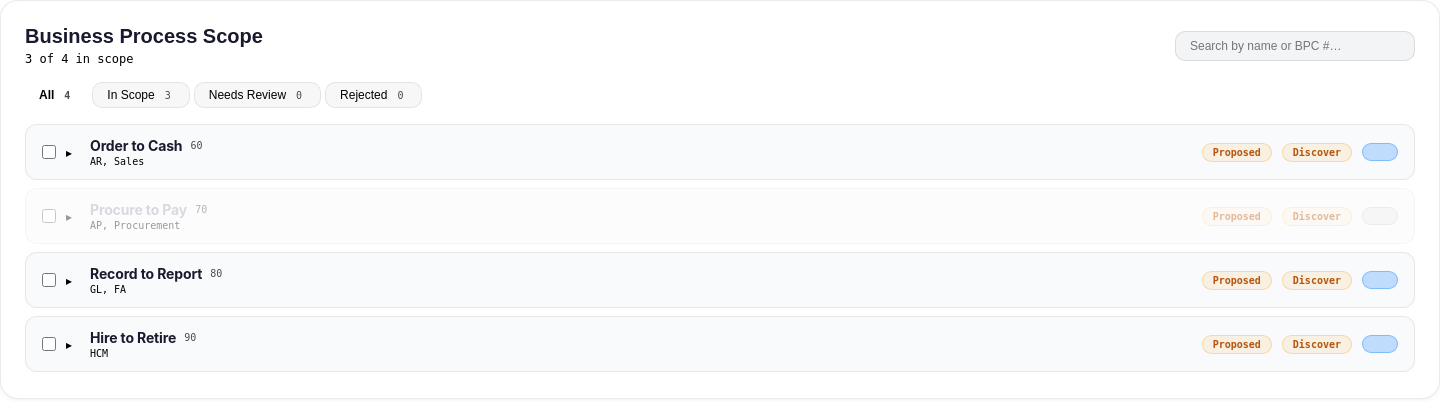
Test: BusinessProcessPage Review UX › Filter tabs › filters to only in-scope processes when In Scope tab clicked
Step 1. Click the button with test id "filter-inScope" → (141, 95), box [92, 82, 190, 108]
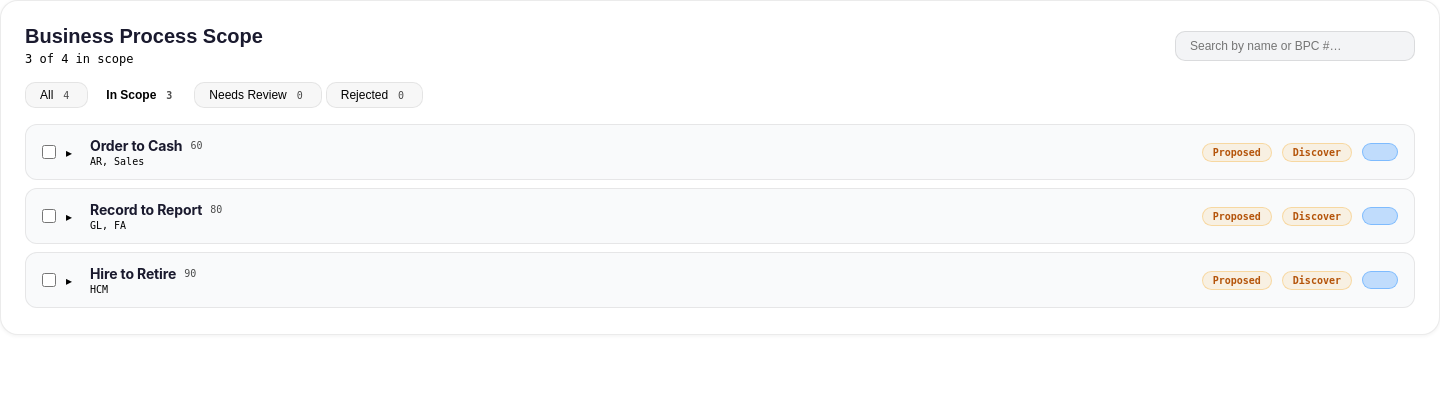
Expected: the element with test id "process-card-e1" is shown, [25, 124, 1415, 182]
Expected: the element with test id "process-card-e2" is gone
